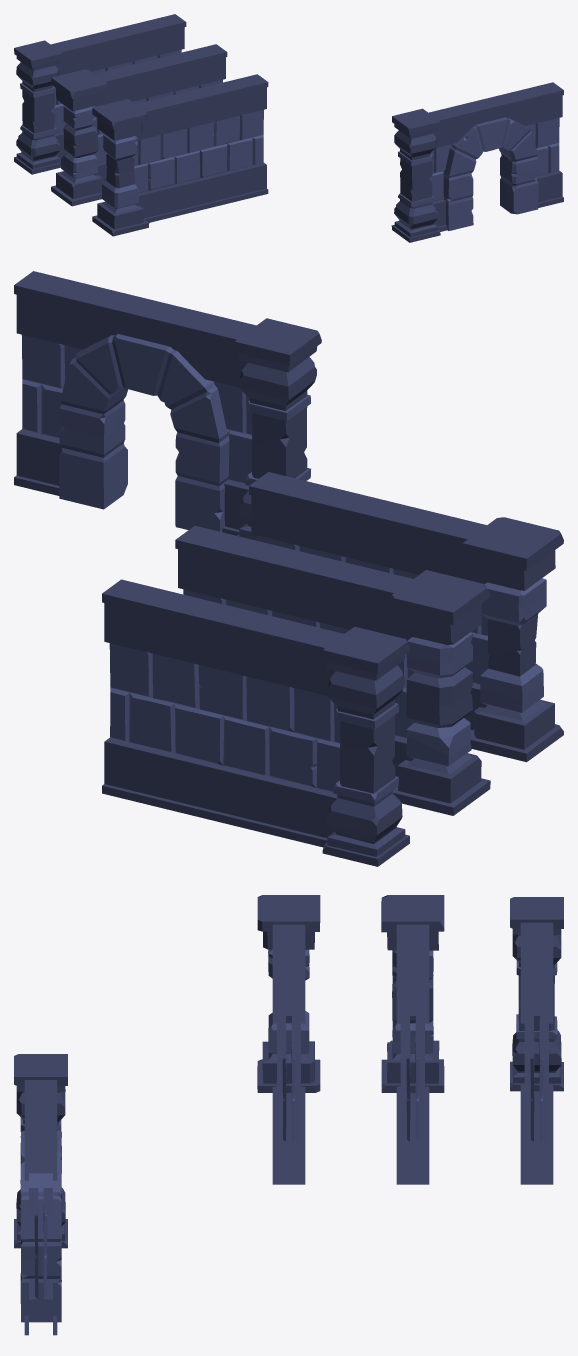
File: walls_door.glb
3 views of the same model, one above another, from view 1: azimuth 30°, elevation 25°; view 2: azimuth 150°, elevation 25°; view 3: azimuth 270°, elevation 25° (orthographic). The views are drawn at different scales.
Visible parts, largest first — view 1: wall_001, door, wall_000, wall_002; view 2: wall_002, door, wall_000, wall_001; view 3: wall_000, wall_001, door, wall_002.
Boxes of the visible parts, x1,y1,x2,y2 form: wall_001: (92, 74, 268, 236); door: (391, 82, 563, 242); wall_000: (51, 44, 227, 206); wall_002: (14, 14, 186, 174); wall_002: (102, 579, 409, 866); door: (14, 271, 321, 540); wall_000: (175, 525, 490, 815); wall_001: (249, 472, 563, 762); wall_000: (381, 895, 444, 1184); wall_001: (257, 895, 320, 1184); door: (14, 1054, 67, 1335); wall_002: (510, 897, 563, 1184).
Size of the model in its own units: 10.51 by 3.06 by 8.87.
